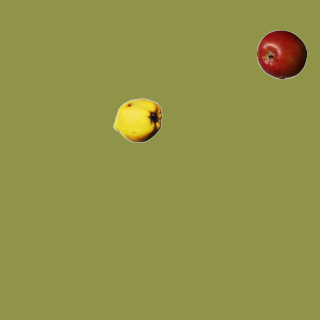Apple Braeburn: (256, 29, 306, 79)
Quince: (112, 95, 162, 145)
